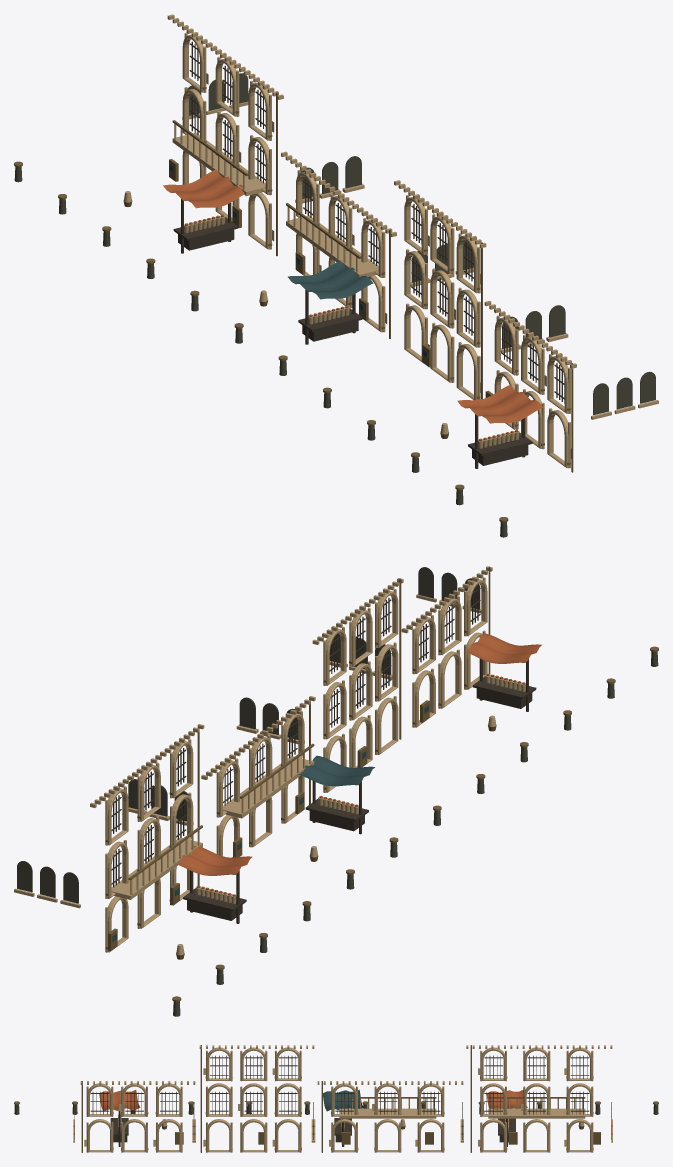
File: block-detail.glb
3 renders of one model, top to bottom at view 1: azimuth 30°, elevation 25°; view 2: azimuth 150°, elevation 25°; view 3: azimuth 270°, elevation 25°, orthographic. The views are drawn at different scales.
Visible parts, largest first — view 1: detail-house-3-sandstone, detail-house-1-sandstone, detail-house-2-sandstone, detail-house-0-sandstone, detail-market-timber, detail-market-saffron, detail-market-indigo, detail-house-3-basalt, detail-market-bronze, detail-house-0-basalt, detail-house-1-timber, detail-market-basalt (+3 smaller); view 2: detail-house-3-sandstone, detail-house-1-sandstone, detail-house-2-sandstone, detail-house-0-sandstone, detail-market-timber, detail-market-saffron, detail-market-bronze, detail-house-0-basalt, detail-market-indigo, detail-house-3-basalt, detail-market-basalt, detail-house-3-timber (+7 smaller); view 3: detail-house-3-sandstone, detail-house-1-sandstone, detail-house-2-sandstone, detail-house-0-sandstone, detail-house-3-timber, detail-house-1-timber, detail-market-saffron, detail-market-timber, detail-market-bronze, detail-house-2-timber, detail-house-0-timber, detail-market-indigo (+4 smaller).
Boxes of the visible parts, x1,y1,x2,y2 form: detail-house-3-sandstone: [167, 14, 364, 249]; detail-house-1-sandstone: [394, 180, 568, 400]; detail-house-2-sandstone: [281, 151, 473, 332]; detail-house-0-sandstone: [484, 300, 658, 468]; detail-market-timber: [173, 199, 532, 468]; detail-market-saffron: [163, 169, 542, 441]; detail-market-indigo: [169, 164, 487, 397]; detail-house-3-basalt: [187, 73, 361, 198]; detail-market-bronze: [14, 159, 508, 522]; detail-house-0-basalt: [502, 305, 655, 415]; detail-house-1-timber: [411, 204, 473, 335]; detail-market-basalt: [14, 166, 507, 537]; detail-house-3-sandstone: [14, 724, 204, 952]; detail-house-1-sandstone: [236, 578, 403, 792]; detail-house-2-sandstone: [128, 696, 315, 857]; detail-house-0-sandstone: [329, 566, 492, 727]; detail-market-timber: [183, 658, 536, 923]; detail-market-saffron: [175, 633, 541, 896]; detail-market-bronze: [108, 646, 658, 1001]; detail-house-0-basalt: [329, 567, 480, 675]; detail-market-indigo: [112, 705, 428, 941]; detail-house-3-basalt: [17, 779, 188, 903]; detail-market-basalt: [173, 651, 658, 1016]; detail-house-3-timber: [111, 748, 186, 887]; detail-house-3-sandstone: [460, 1045, 612, 1152]; detail-house-1-sandstone: [192, 1045, 315, 1152]; detail-house-2-sandstone: [311, 1081, 463, 1152]; detail-house-0-sandstone: [73, 1081, 195, 1152]; detail-house-3-timber: [484, 1055, 589, 1114]; detail-house-1-timber: [210, 1055, 297, 1114]; detail-market-saffron: [99, 1090, 527, 1110]; detail-market-timber: [110, 1111, 515, 1146]; detail-market-bronze: [14, 1101, 658, 1144]; detail-house-2-timber: [335, 1091, 440, 1114]; detail-house-0-timber: [90, 1091, 178, 1114]; detail-market-indigo: [323, 1089, 363, 1111].
Bounding box in the file's own units: 10.3 × 7.98 × 43.3.
